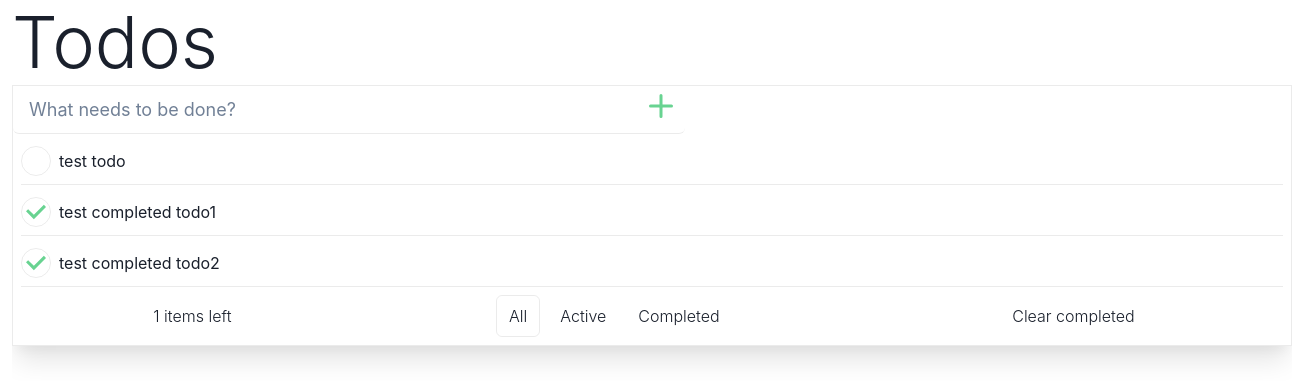
it: Todos page tests › clearing complited work
Expected: the number of list items is 3, [21,146,1283,185]; [21,197,1283,236]; [21,248,1283,287]
Click the button with test id "clear-completed-btn" at (1073, 316), box [996,296,1151,336]
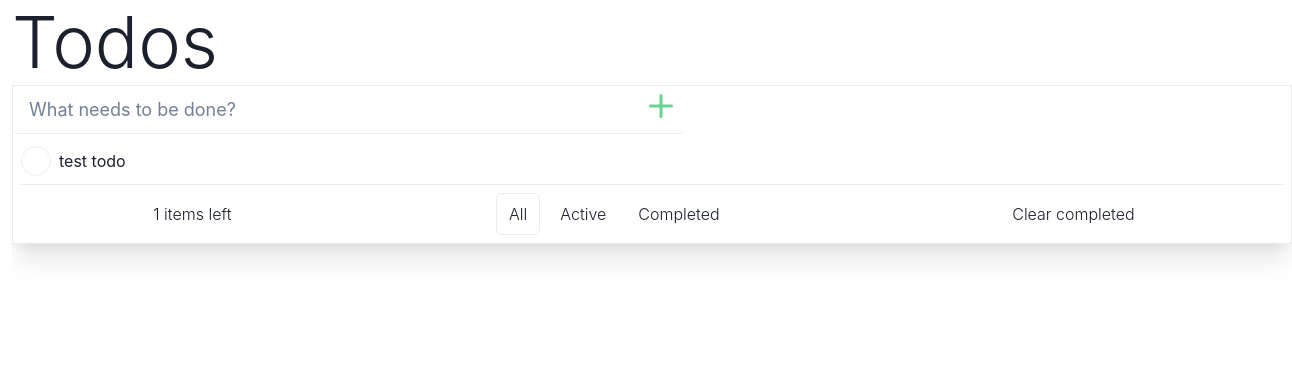
Now the number of list items is 1, box [21,146,1283,185]
